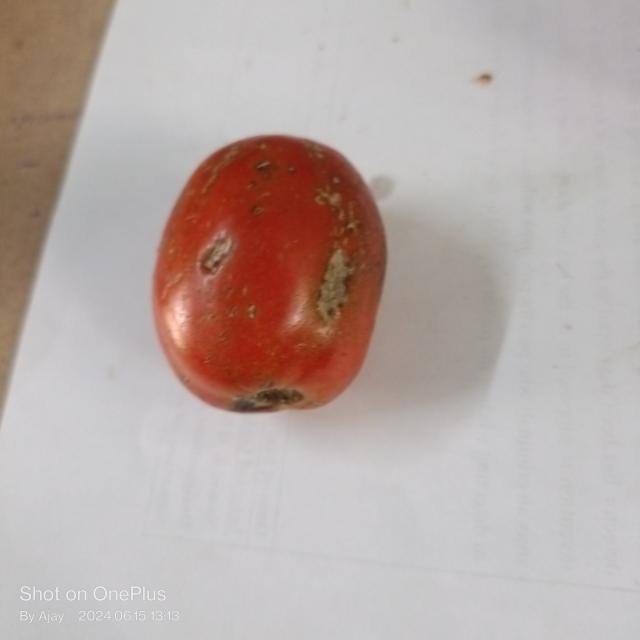Bacterial_Spot: (317, 237, 357, 334), (312, 171, 358, 231), (194, 227, 234, 280), (250, 151, 296, 180), (248, 196, 270, 218)
